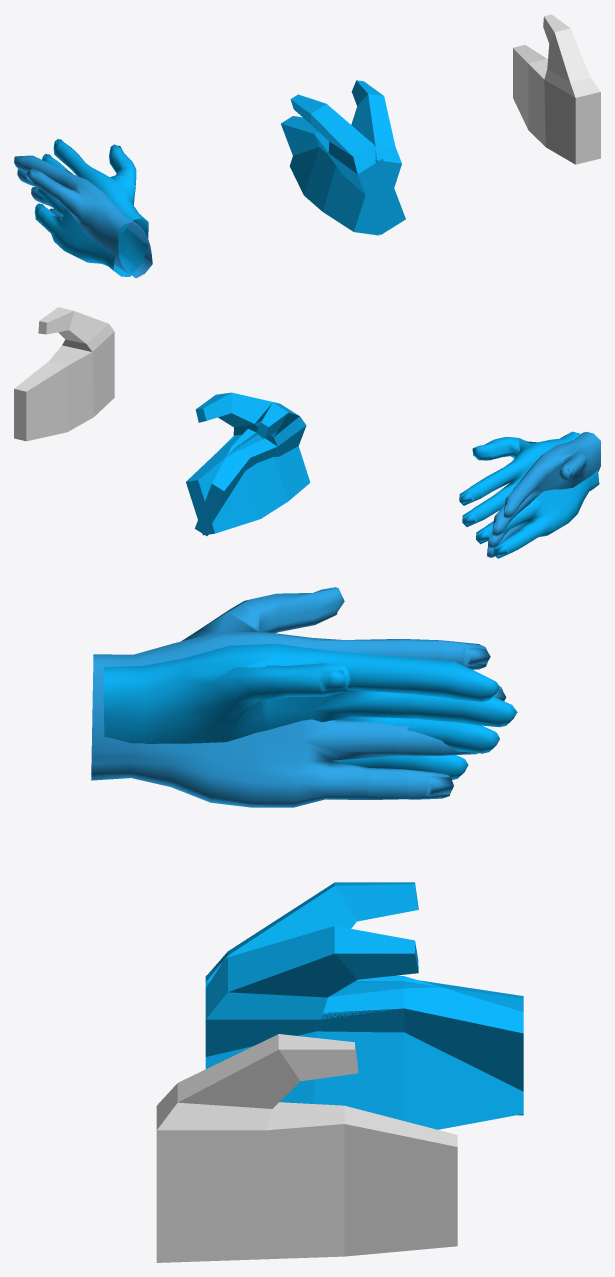
Rendered from hands.glb.
The picture shows the model from 3 angles, top to bottom: view 1: azimuth 30°, elevation 25°; view 2: azimuth 150°, elevation 25°; view 3: azimuth 270°, elevation 25°; orthographic projection. The views are drawn at different scales.
Parts seen in each view (by area): view 1: hand_base, left, left_old, right, right_old; view 2: hand_base, left, left_old, right_old, right; view 3: hand_base, left_old, right_old, left, right.
Part boxes in pixels (<box>): hand_base: <box>513,14,600,164</box>; left: <box>289,80,401,235</box>; left_old: <box>34,139,148,276</box>; right: <box>281,94,405,234</box>; right_old: <box>14,155,152,278</box>; hand_base: <box>14,307,114,441</box>; left: <box>186,392,310,535</box>; left_old: <box>459,431,599,558</box>; right_old: <box>487,431,600,557</box>; right: <box>195,402,306,535</box>; hand_base: <box>156,1034,457,1262</box>; left_old: <box>103,643,517,779</box>; right_old: <box>91,587,506,807</box>; left: <box>205,926,523,1115</box>; right: <box>205,882,523,1129</box>.
Bounding box in the file's own units: 0.6342 × 0.1629 × 0.2256.
